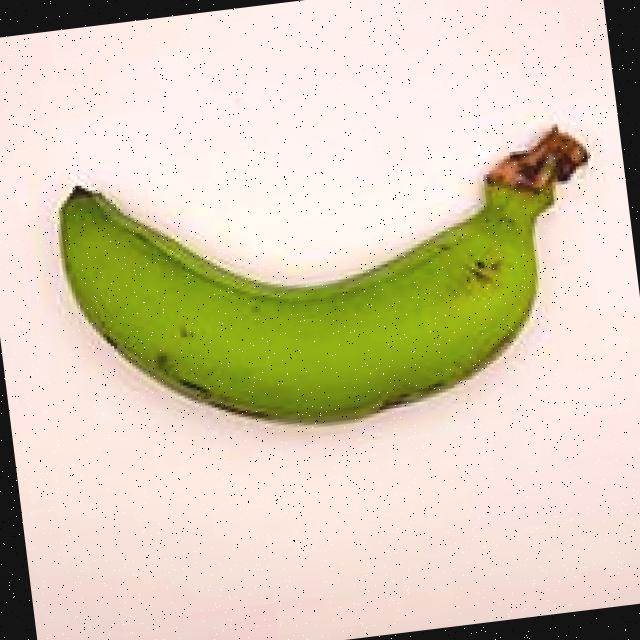Raw: (24, 76, 630, 469)
